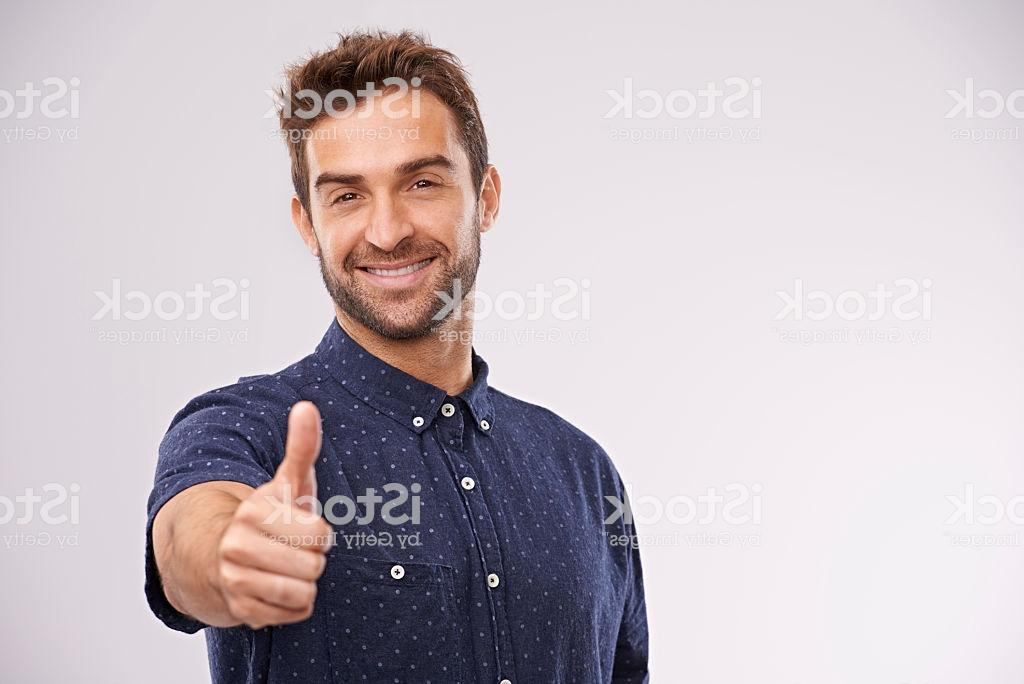thumbsup: (216, 399, 334, 631)
